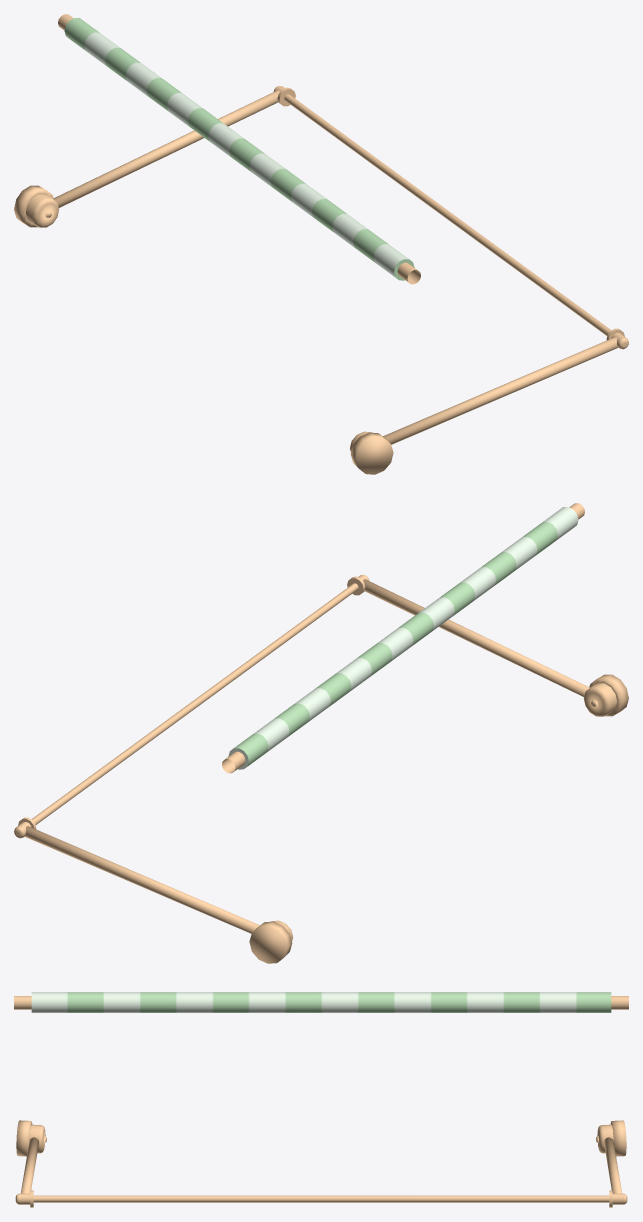
The model's file is Awning.glb.
3 views of the same model, one above another, from view 1: azimuth 30°, elevation 25°; view 2: azimuth 150°, elevation 25°; view 3: azimuth 270°, elevation 25° (orthographic). The views are drawn at different scales.
Visible parts, largest first — view 1: RetractableAwnings; view 2: RetractableAwnings; view 3: RetractableAwnings.
Part boxes in pixels (x1,y1,x2,y2): RetractableAwnings: [14, 14, 628, 474]; RetractableAwnings: [14, 503, 628, 963]; RetractableAwnings: [14, 992, 628, 1207].
Bounding box in the file's own units: 3.2 × 2.24 × 7.06.
2 materials, 1 textured.
